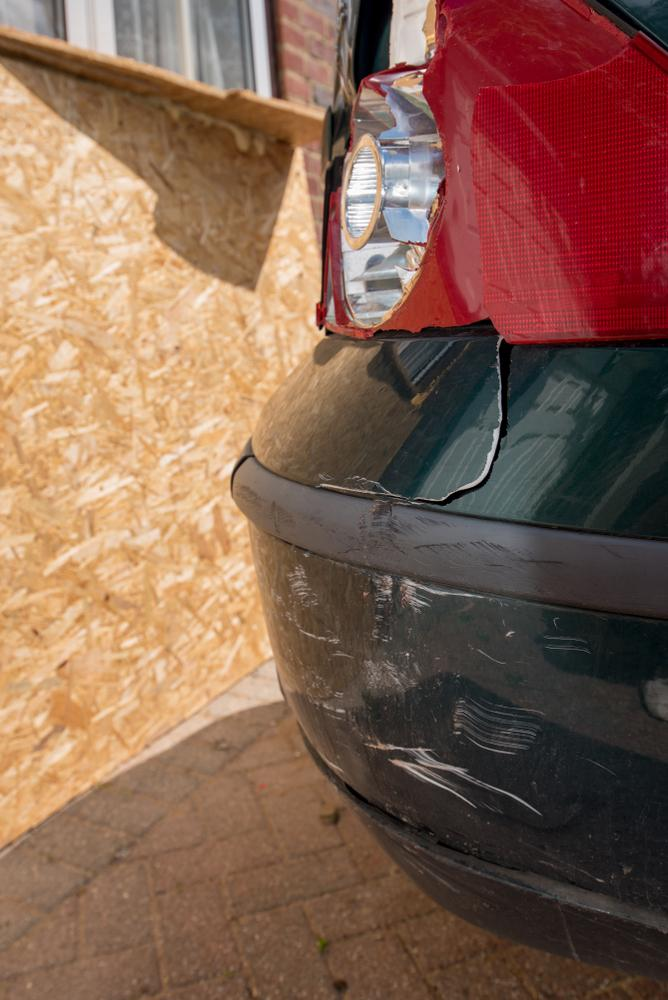crack: (321, 339, 516, 507)
lamp broken: (321, 0, 668, 344)
scratch: (279, 558, 596, 818), (233, 467, 668, 604)
